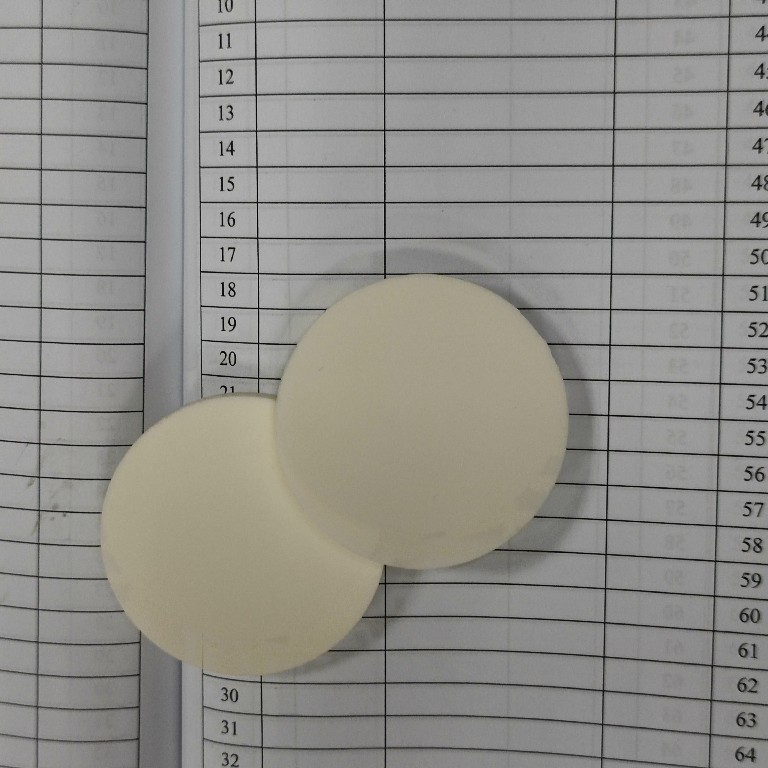ceramics: (96, 265, 573, 683)
